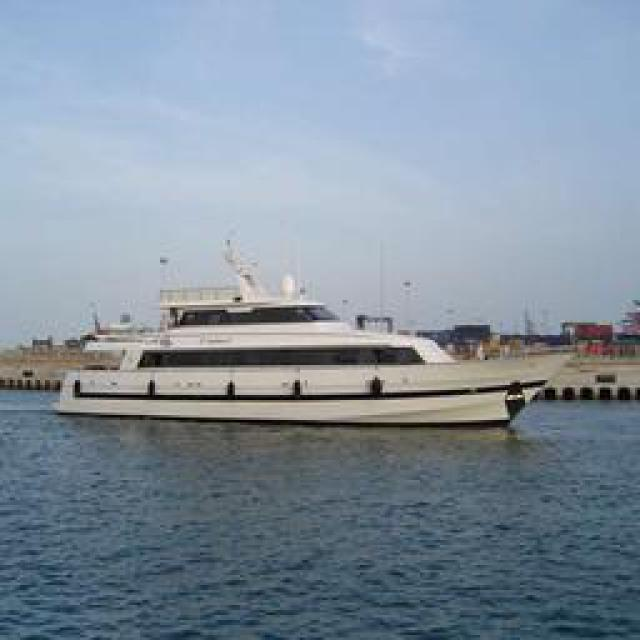Ship: (63, 289, 548, 429)
